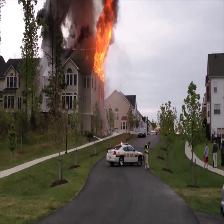fire: (94, 21, 113, 75)
smoke: (40, 2, 90, 44)
